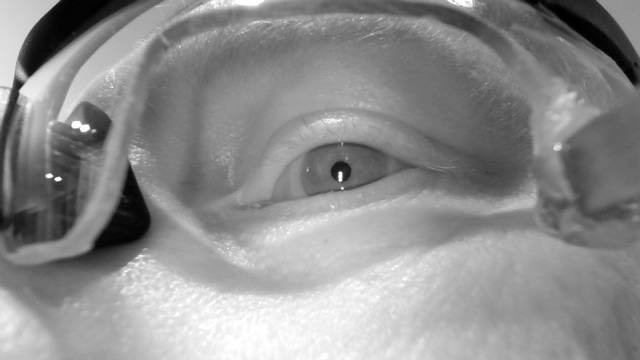pupil: (330, 160, 352, 184)
